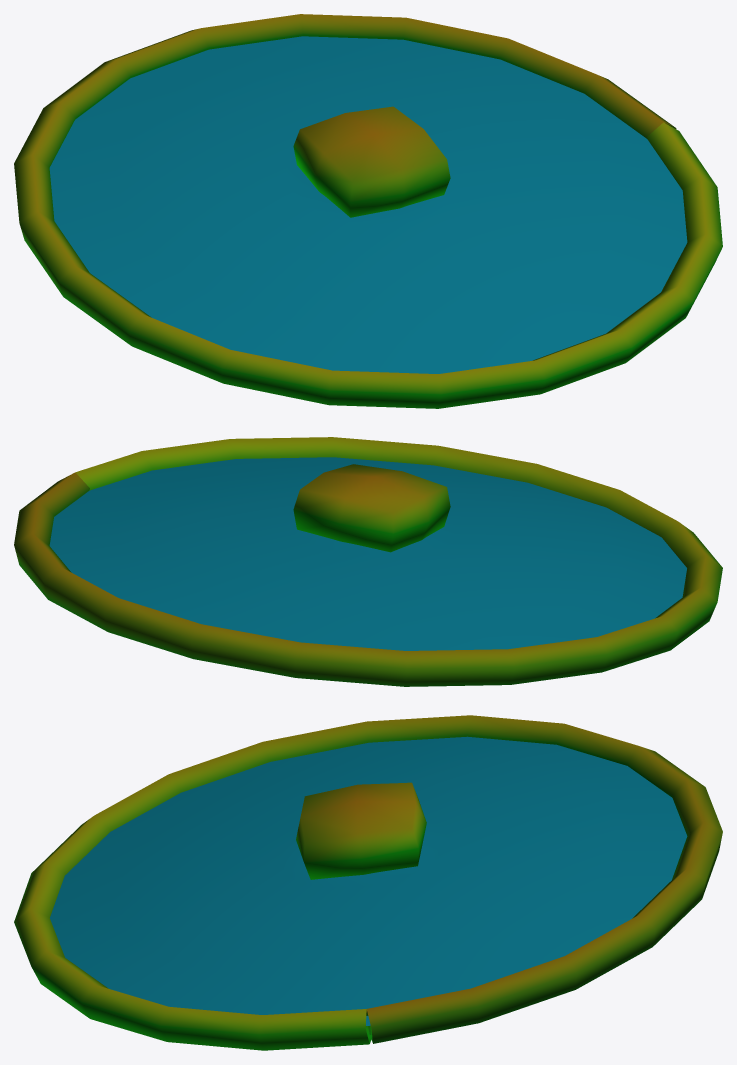
Rendered from round_shield.glb.
3 renders of one model, top to bottom at view 1: azimuth 30°, elevation 25°; view 2: azimuth 150°, elevation 25°; view 3: azimuth 270°, elevation 25°, orthographic.
Parts seen in each view (by area): view 1: round_shield; view 2: round_shield; view 3: round_shield.
Part boxes in pixels (x1=…): round_shield: x1=14, y1=14, x2=722, y2=408; round_shield: x1=14, y1=437, x2=722, y2=686; round_shield: x1=14, y1=715, x2=722, y2=1050.
Size of what is drawn, in the model's own units: 0.7578 by 0.162 by 0.7506.
